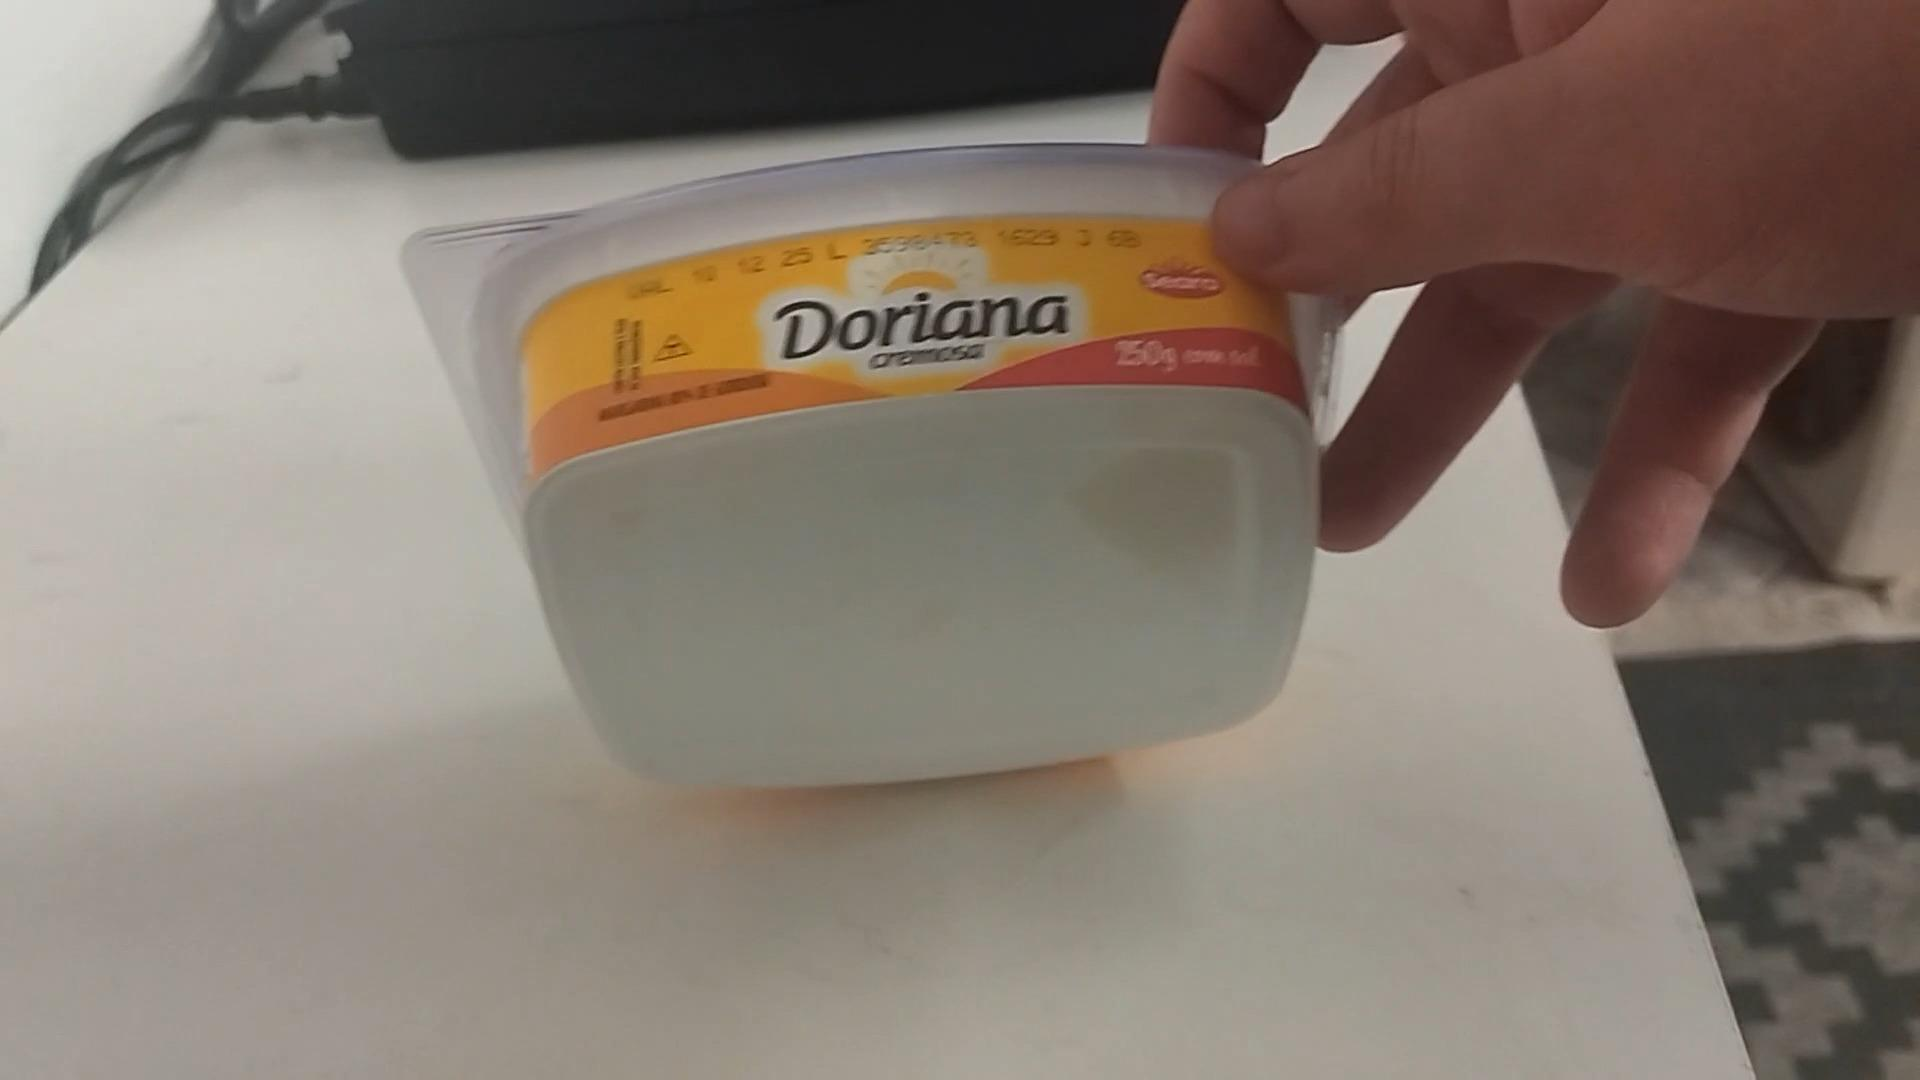butter: (404, 145, 1344, 793)
